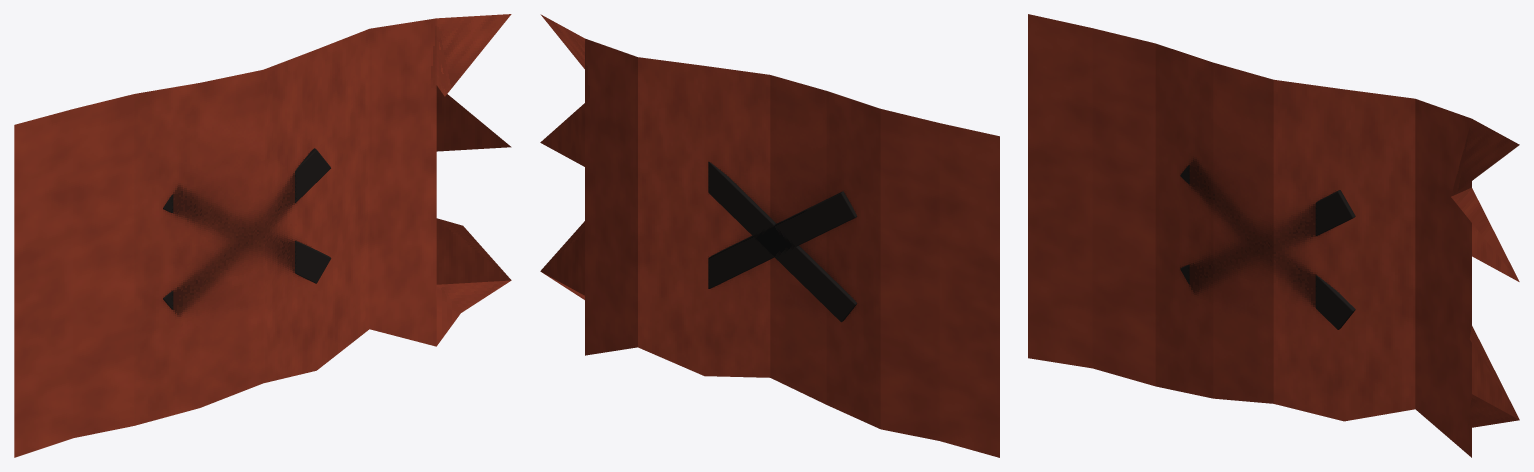
The model's file is arena_mine_flag_cloth.glb.
The picture shows the model from 3 angles, left to right: view 1: azimuth 30°, elevation 25°; view 2: azimuth 150°, elevation 25°; view 3: azimuth 330°, elevation 25°; orthographic projection. The views are drawn at different scales.
Parts seen in each view (by area): view 1: arena_mine_flag_cloth; view 2: arena_mine_flag_cloth; view 3: arena_mine_flag_cloth.
Part boxes in pixels (<box>): arena_mine_flag_cloth: <box>14,14,511,457</box>; arena_mine_flag_cloth: <box>540,14,999,457</box>; arena_mine_flag_cloth: <box>1028,14,1519,457</box>.
Size of the model in its own units: 1.3 by 0.85 by 0.0946.
2 materials, 2 textured.
